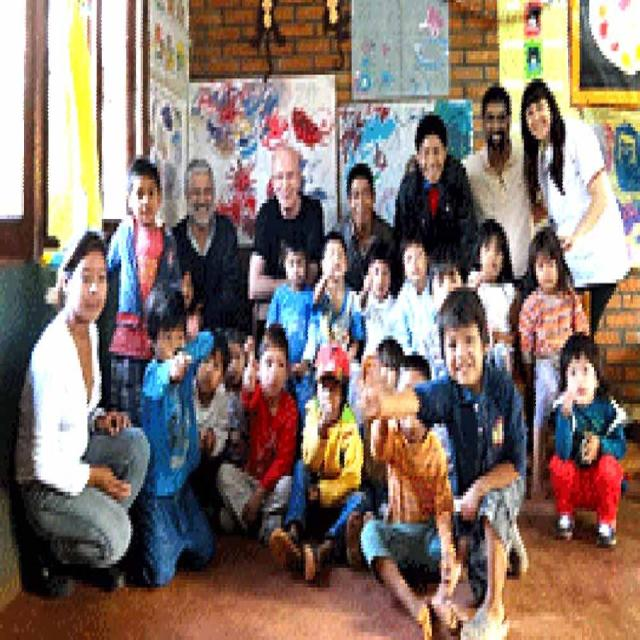body: (350, 279, 532, 639), (11, 226, 151, 598), (354, 344, 470, 639), (403, 84, 543, 298), (519, 77, 633, 333), (266, 340, 368, 592), (138, 279, 215, 585), (106, 158, 194, 425), (544, 328, 632, 560), (518, 226, 591, 498), (215, 320, 300, 548), (392, 111, 482, 285), (266, 231, 318, 517), (244, 141, 326, 311), (172, 159, 242, 328), (326, 159, 404, 295), (384, 228, 447, 383), (396, 340, 456, 502), (186, 324, 252, 470), (464, 216, 522, 375), (307, 230, 365, 360), (358, 328, 396, 481), (356, 235, 399, 354), (180, 294, 203, 326)
